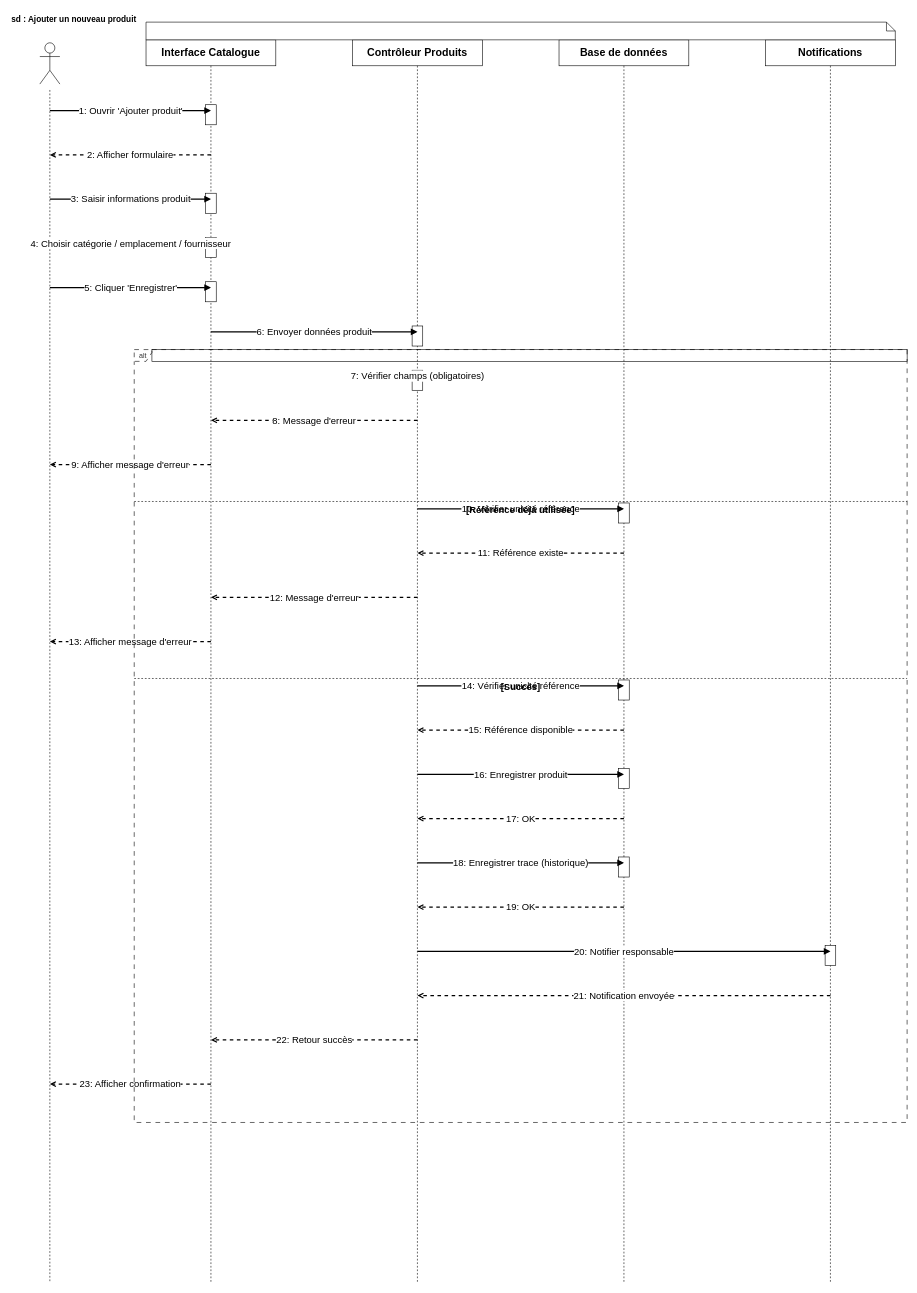
Image size: 917x1293. Some labels were removed from this diagram. The shapes that lost their labels are listed below. From the top down, each one's centre as x and y in pixels, then its label:
At pixel 520 31: "ref : S'authentifier".
At pixel 49 63: "Magasinier".
At pixel 529 355: "[Champs vides]".
